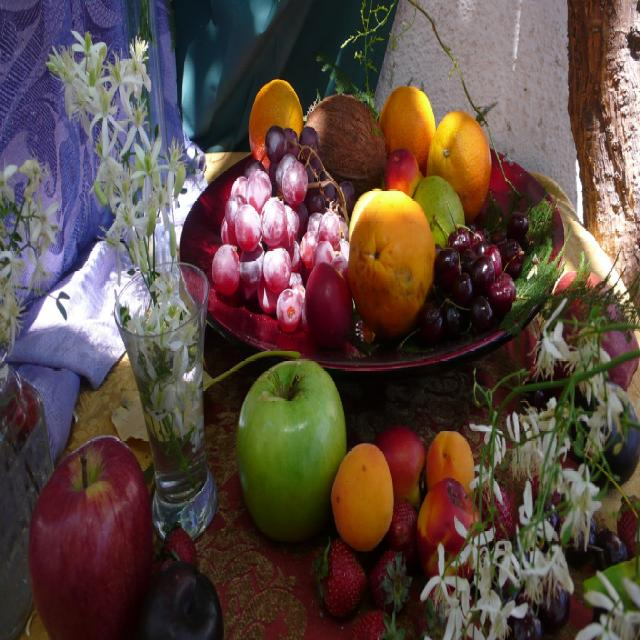Healty Apple: (28, 434, 154, 640), (414, 475, 484, 593), (376, 426, 428, 512), (385, 150, 419, 199)
